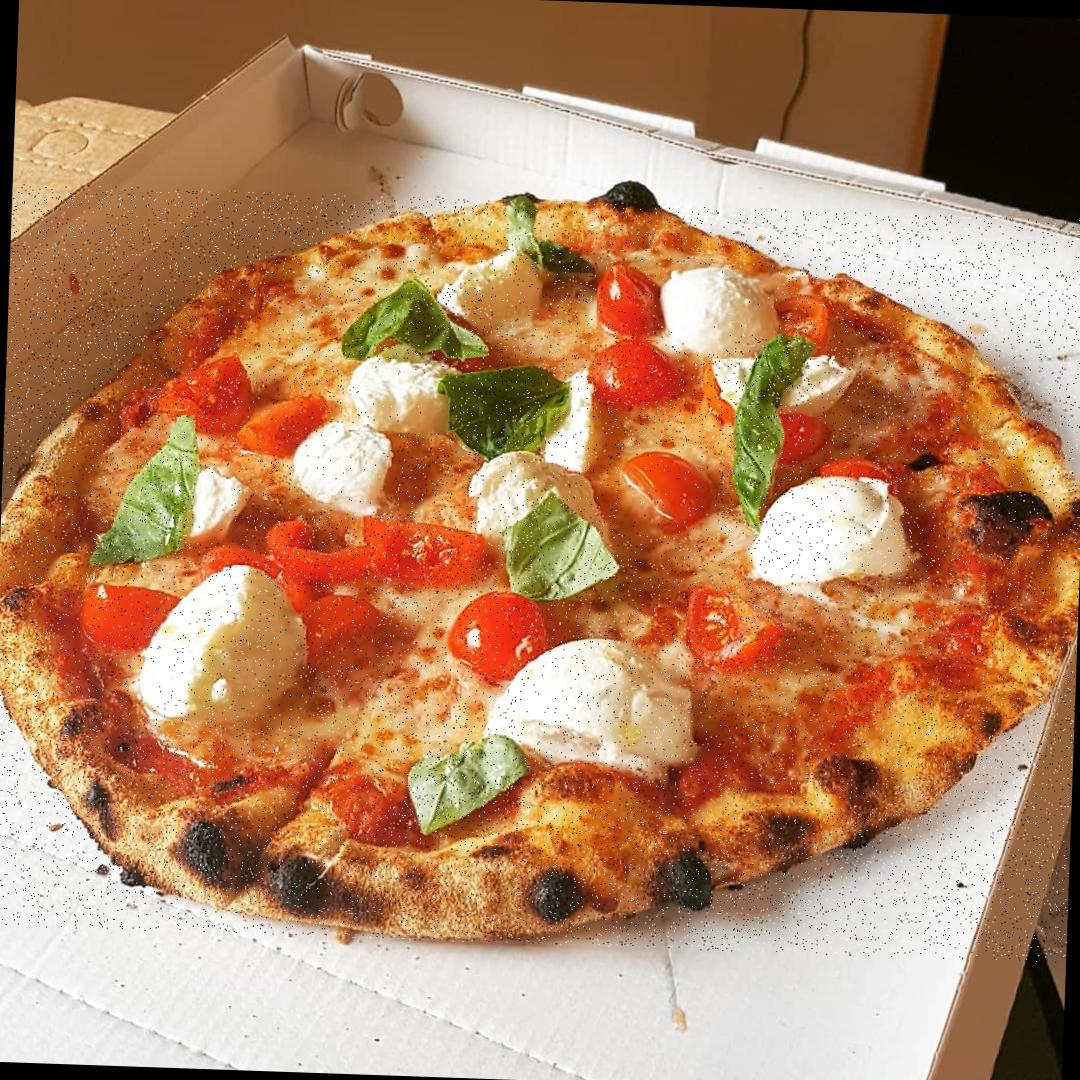Basil: (88, 412, 197, 572), (728, 334, 808, 528), (337, 276, 494, 363), (498, 494, 620, 601), (407, 734, 531, 838), (499, 200, 595, 273)
Cheese: (136, 564, 311, 728), (496, 642, 682, 782), (744, 480, 918, 586), (464, 461, 615, 546), (666, 265, 774, 352), (436, 250, 548, 330), (290, 428, 394, 513), (342, 358, 450, 435), (712, 355, 852, 414), (545, 374, 610, 468), (181, 470, 248, 542)
Pizza: (0, 183, 1080, 963)
Tomatoes: (446, 590, 550, 686), (685, 585, 788, 676), (618, 450, 718, 538), (370, 512, 481, 590), (148, 352, 250, 429), (264, 517, 370, 587), (76, 581, 172, 658), (589, 339, 684, 413), (299, 596, 389, 667), (238, 388, 325, 457), (203, 549, 302, 606), (596, 264, 669, 340), (772, 289, 837, 356), (766, 412, 826, 462), (821, 457, 900, 484)
